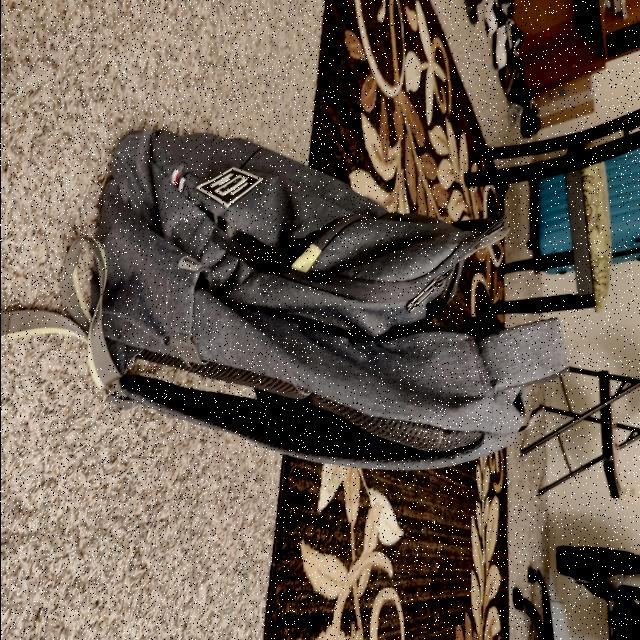bag: (82, 136, 540, 476)
